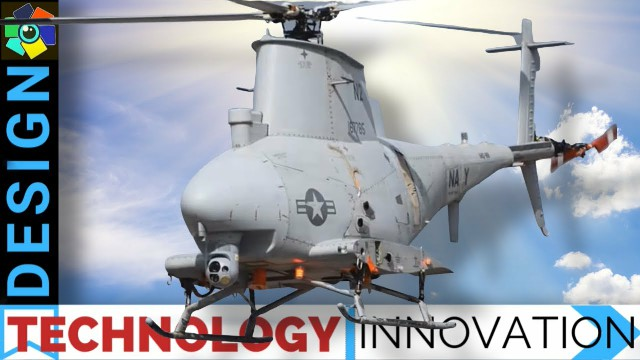maybay_khongnguoilai: (60, 8, 618, 333)
